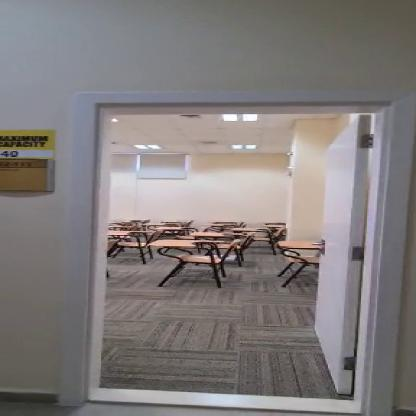open: (58, 82, 414, 416)
